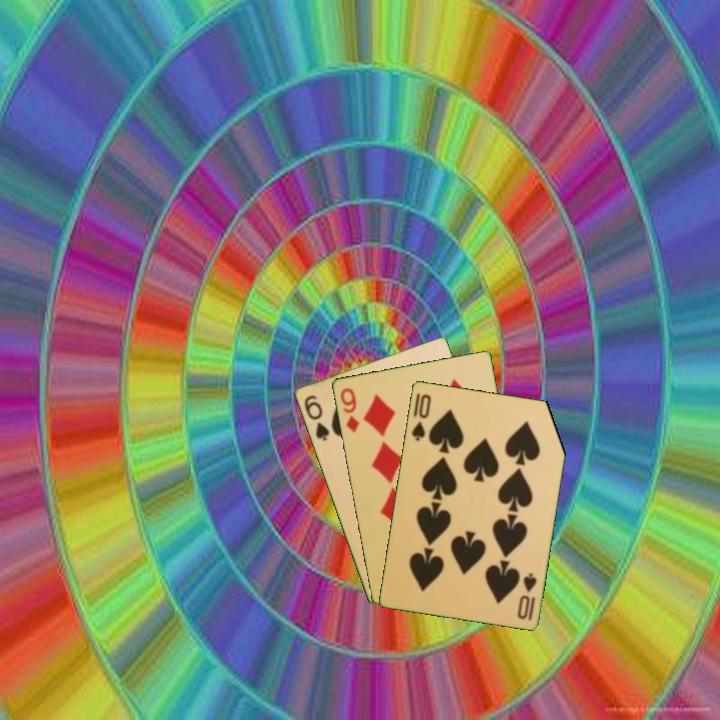10s: (408, 390, 434, 443), (514, 569, 539, 623)
6s: (300, 391, 332, 443)
9d: (336, 384, 362, 435)
